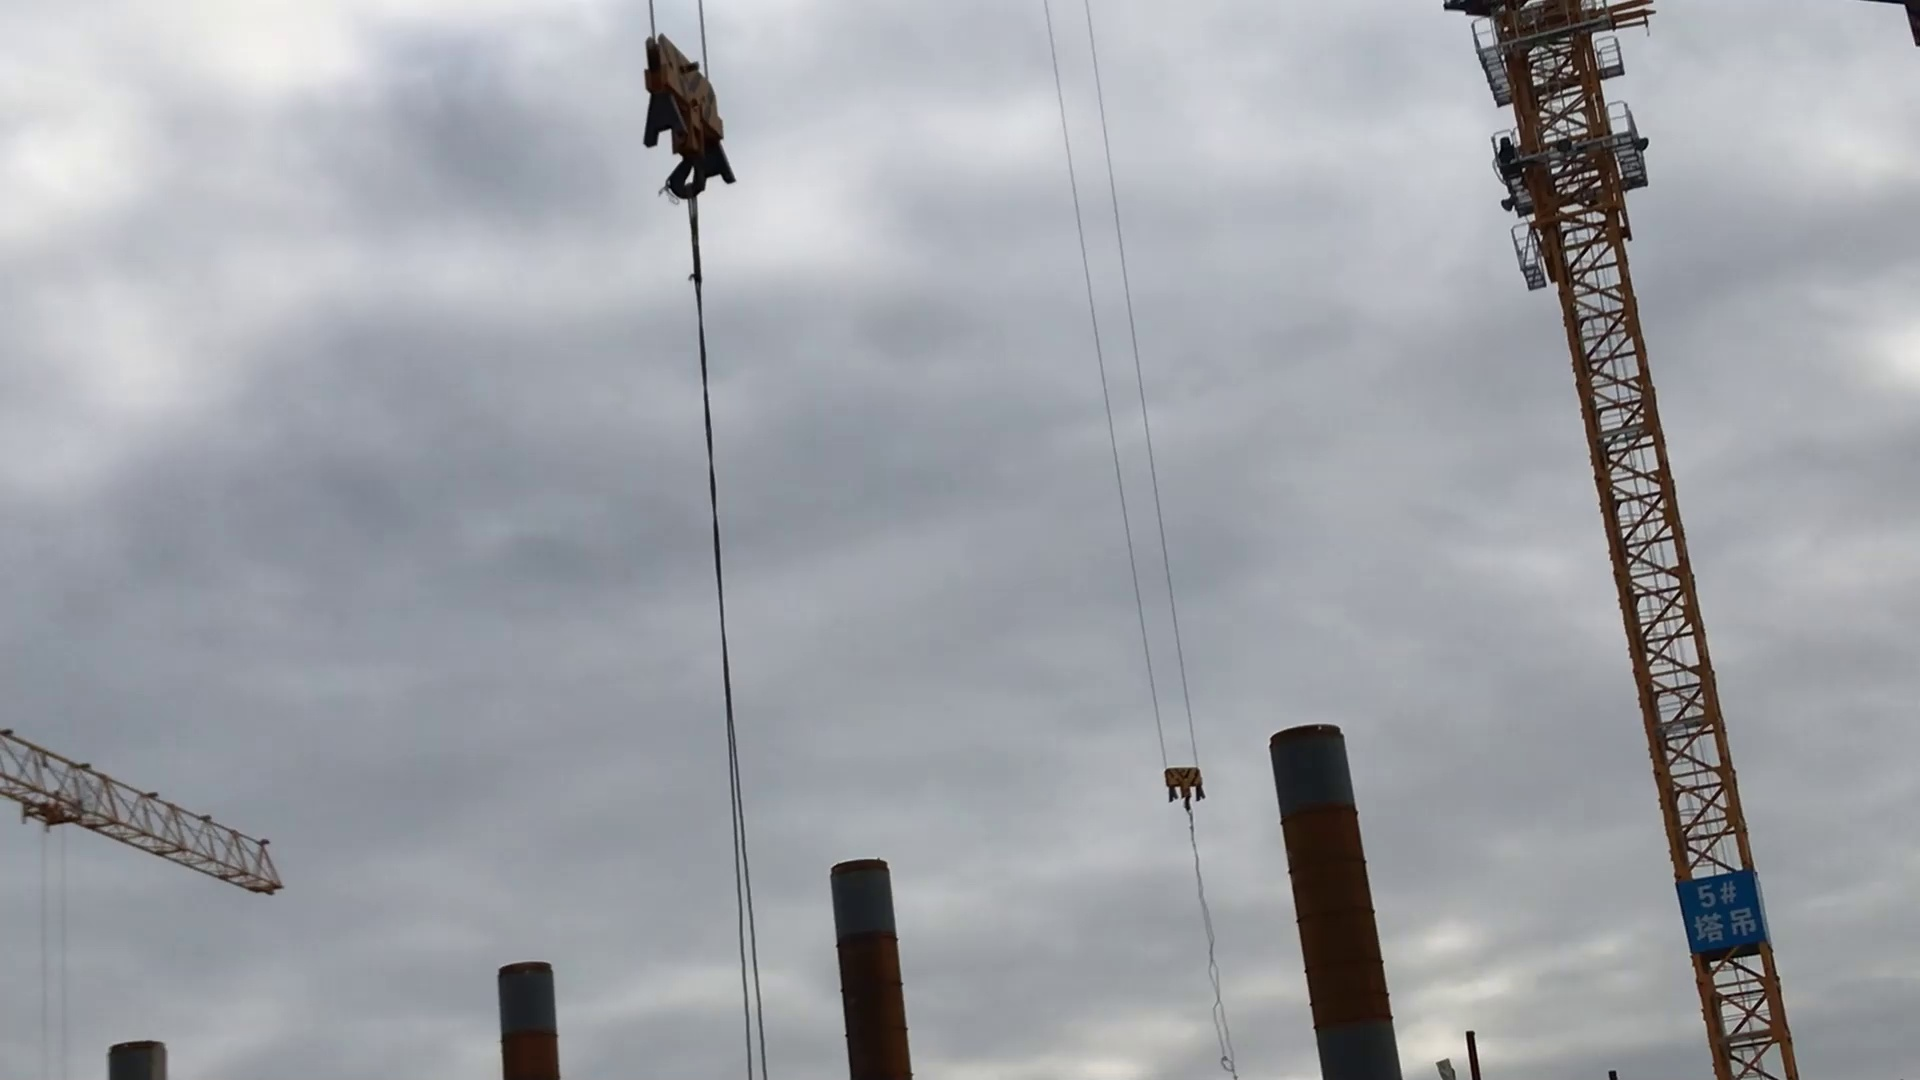hook: (646, 34, 729, 196), (1164, 760, 1203, 822)
